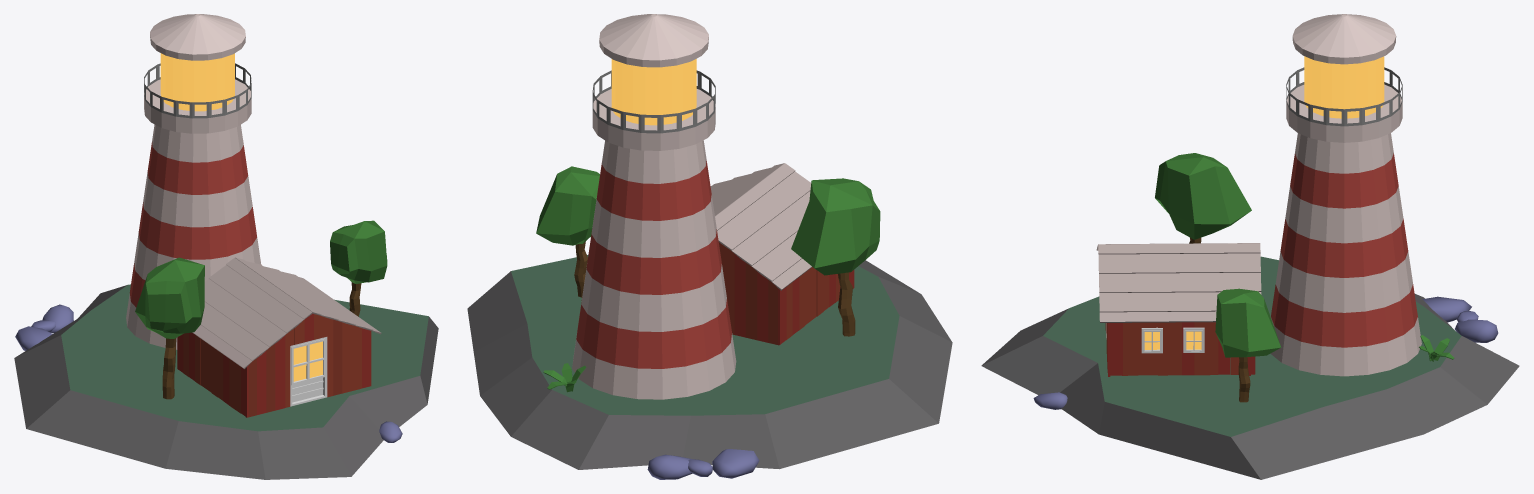
The model's file is island3.glb.
3 views of the same model, side by side, from view 1: azimuth 30°, elevation 25°; view 2: azimuth 150°, elevation 25°; view 3: azimuth 270°, elevation 25° (orthographic). The views are drawn at different scales.
Visible parts, largest first — view 1: isl, lighthouse, House.001, Tree2.010, Tree2.011, Rock4.006, Rock4.005; view 2: isl, lighthouse, House.001, Tree2.010, Tree2.011, Rock4.006, Rock4.005, Plant.001; view 3: isl, lighthouse, House.001, Tree2.010, Tree2.011, Rock4.005, Rock4.006.
Boxes of the visible parts, x1,y1,x2,y2 form: isl: (14,284,438,479); lighthouse: (126,14,261,349); House.001: (177,257,381,417); Tree2.010: (135,257,204,399); Tree2.011: (330,220,387,316); Rock4.006: (15,326,52,350); Rock4.005: (42,304,73,333); isl: (467,255,952,469); lighthouse: (572,14,736,399); House.001: (710,163,854,345); Tree2.010: (791,178,880,336); Tree2.011: (536,166,599,297); Rock4.006: (712,449,759,478); Rock4.005: (647,454,692,479); Plant.001: (543,363,586,392); isl: (981,256,1519,479); lighthouse: (1270,14,1421,376); House.001: (1096,243,1261,376); Tree2.010: (1155,153,1251,243); Tree2.011: (1215,288,1281,402); Rock4.005: (1455,319,1498,342); Rock4.006: (1422,296,1471,322).
Size of the model in its own units: 14.72 by 11.67 by 15.5.
